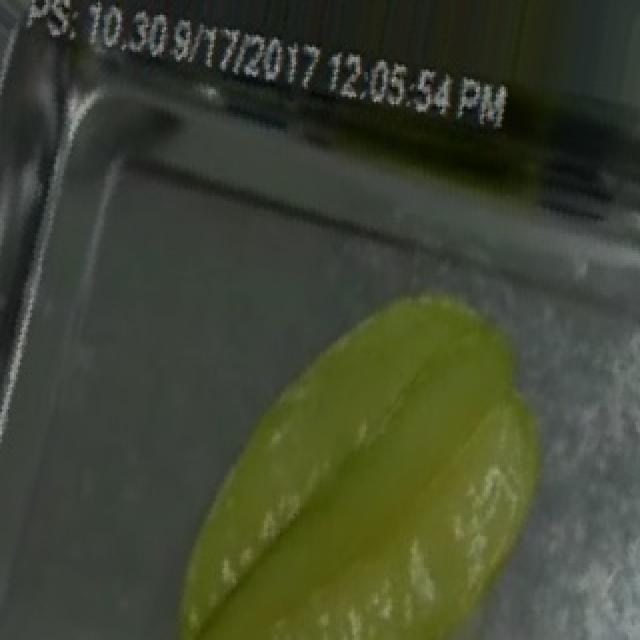fruit: (130, 221, 610, 640)
